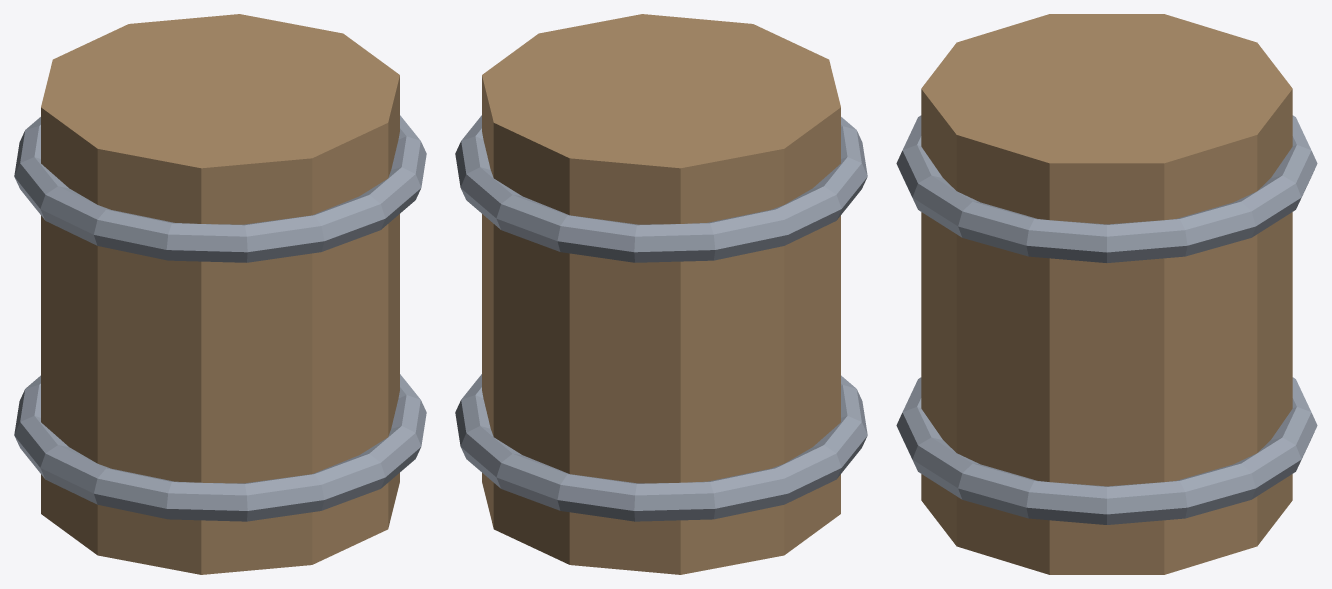
File: barrel.glb
3 renders of one model, left to right at view 1: azimuth 30°, elevation 25°; view 2: azimuth 150°, elevation 25°; view 3: azimuth 270°, elevation 25°, orthographic.
Visible parts, largest first — view 1: BarrelBody; view 2: BarrelBody; view 3: BarrelBody.
Part boxes in pixels (left/top/right/bottom): BarrelBody: left=14, top=14, right=426, bottom=574; BarrelBody: left=455, top=14, right=867, bottom=574; BarrelBody: left=896, top=14, right=1317, bottom=574.
Bounding box in the file's own units: 1.02 × 1.1 × 1.02.
